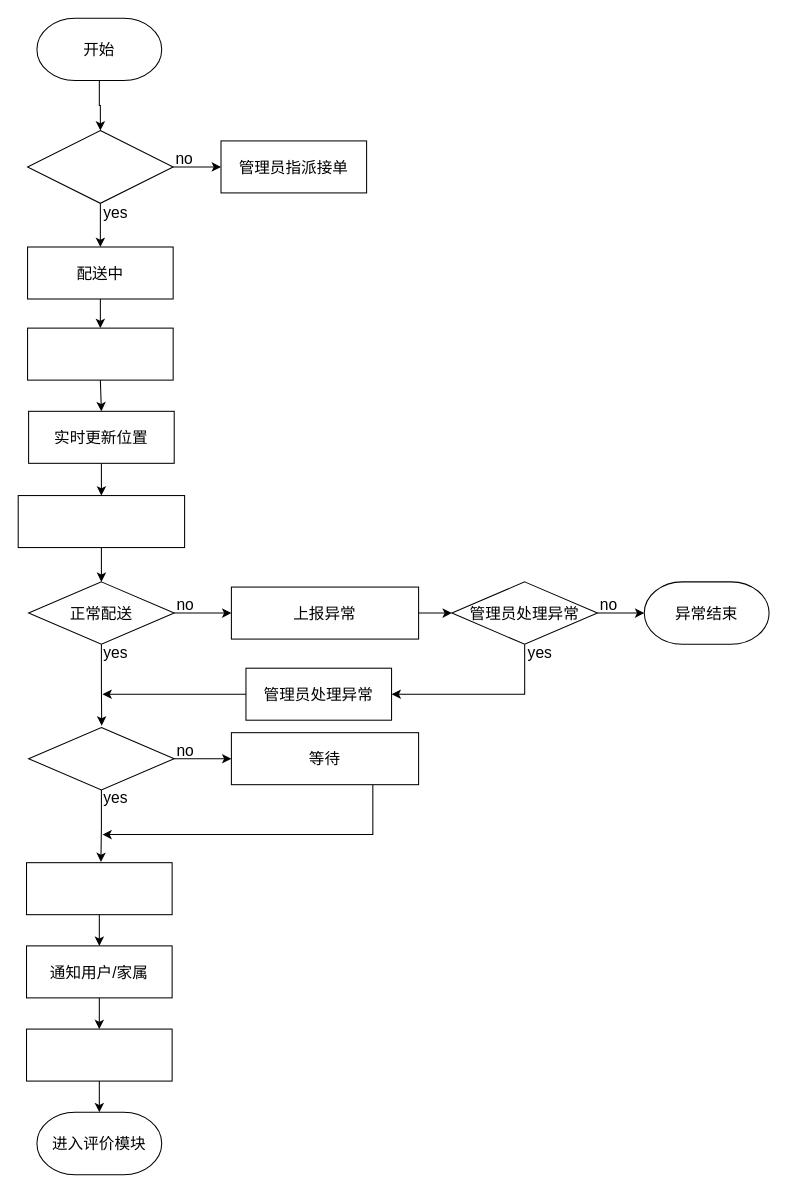
Image size: 787x1193. Some labels were removed from this diagram. Here are the shapes that lost their labels. From the top down, the centre of each, then its label:
At pixel 100 166: "配送员接单".
At pixel 100 353: "开始导航".
At pixel 101 521: "家属/管理员实时跟踪".
At pixel 101 758: "到达".
At pixel 98 888: "点击已送达".
At pixel 98 1054: "订单状态: 已完成".
